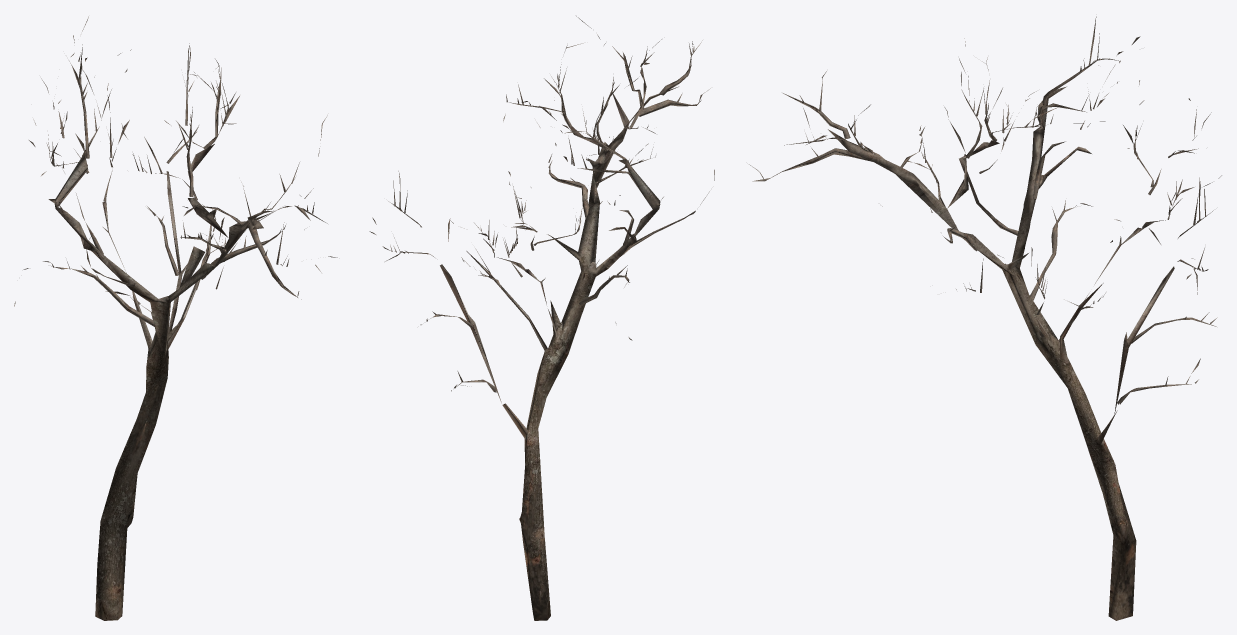
The model's file is vancouver-street-tree-branches.glb.
3 renders of one model, left to right at view 1: azimuth 30°, elevation 25°; view 2: azimuth 150°, elevation 25°; view 3: azimuth 270°, elevation 25°, orthographic. The views are drawn at different scales.
Parts seen in each view (by area): view 1: tree_small_02_LOD0; view 2: tree_small_02_LOD0; view 3: tree_small_02_LOD0.
Boxes of the visible parts, x1=… form: tree_small_02_LOD0: x1=14, y1=16, x2=337, y2=620; tree_small_02_LOD0: x1=369, y1=16, x2=714, y2=620; tree_small_02_LOD0: x1=749, y1=16, x2=1221, y2=620.
Bounding box in the file's own units: 2 × 4.19 × 3.13.
Materials: 2 (2 with a texture image).
